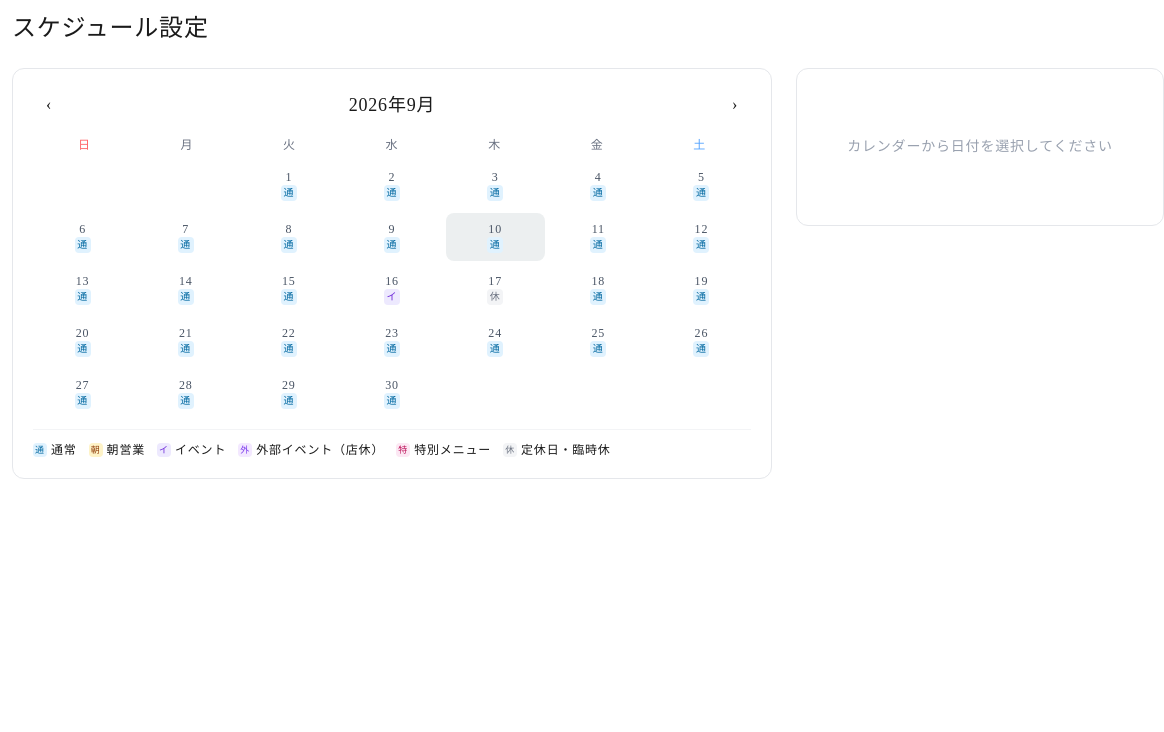
Test: ScheduleCalendar › 個別設定のある日はイベント名・説明を表示し、「定例に戻す」を出す
Click the button "16 イ". click: (392, 289)
box: [342,265,442,313]
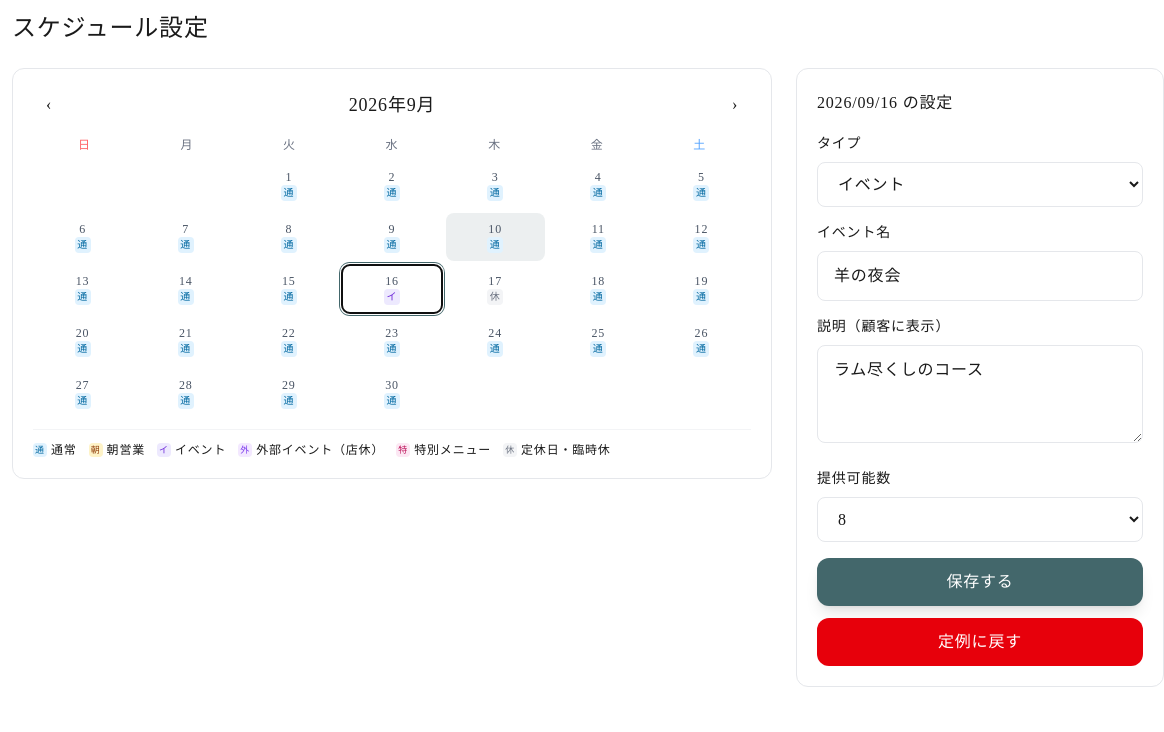
Result: the dropdown showing "イベント" below "タイプ" is shown at [817,162,1143,207]
Result: the field showing "羊の夜会" is shown at [817,251,1143,301]
Result: the text box showing "ラム尽くしのコース" is shown at [817,345,1143,443]
